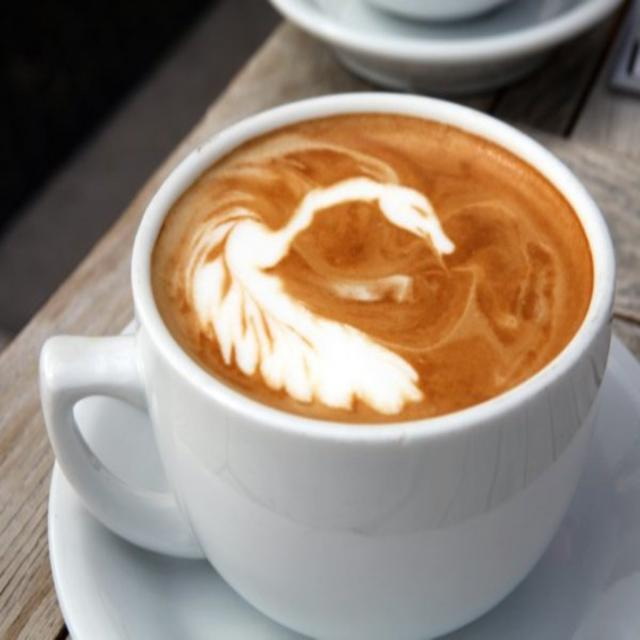latte: (127, 92, 618, 448)
